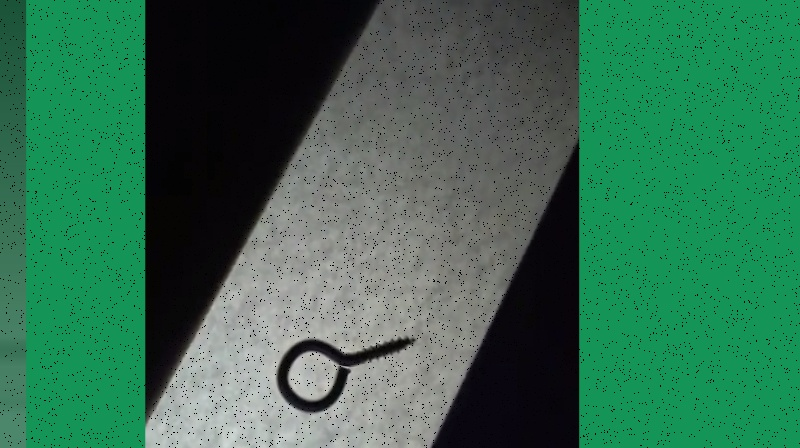O001: (274, 329, 418, 416)
